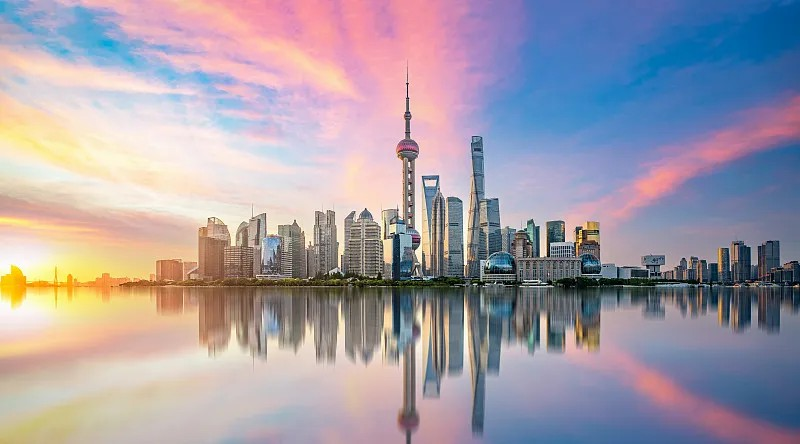Oriental: (396, 61, 423, 275)
